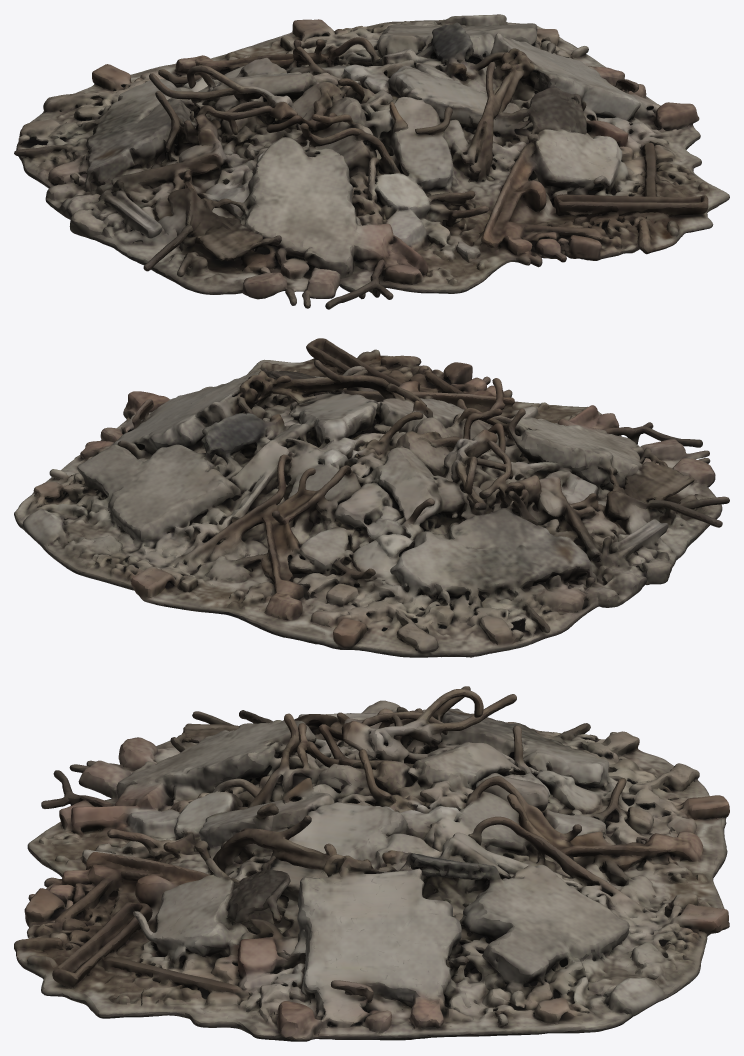
Rendered from rubble.glb.
3 renders of one model, top to bottom at view 1: azimuth 30°, elevation 25°; view 2: azimuth 150°, elevation 25°; view 3: azimuth 270°, elevation 25°, orthographic. The views are drawn at different scales.
Parts seen in each view (by area): view 1: world; view 2: world; view 3: world.
Boxes of the visible parts, box(x1,y1,x2,y2) form: world: box(14, 14, 729, 309); world: box(14, 338, 729, 657); world: box(14, 686, 729, 1041).
Bounding box in the file's own units: 2.5 × 0.4566 × 2.32.
Materials: 1 (1 with a texture image).
